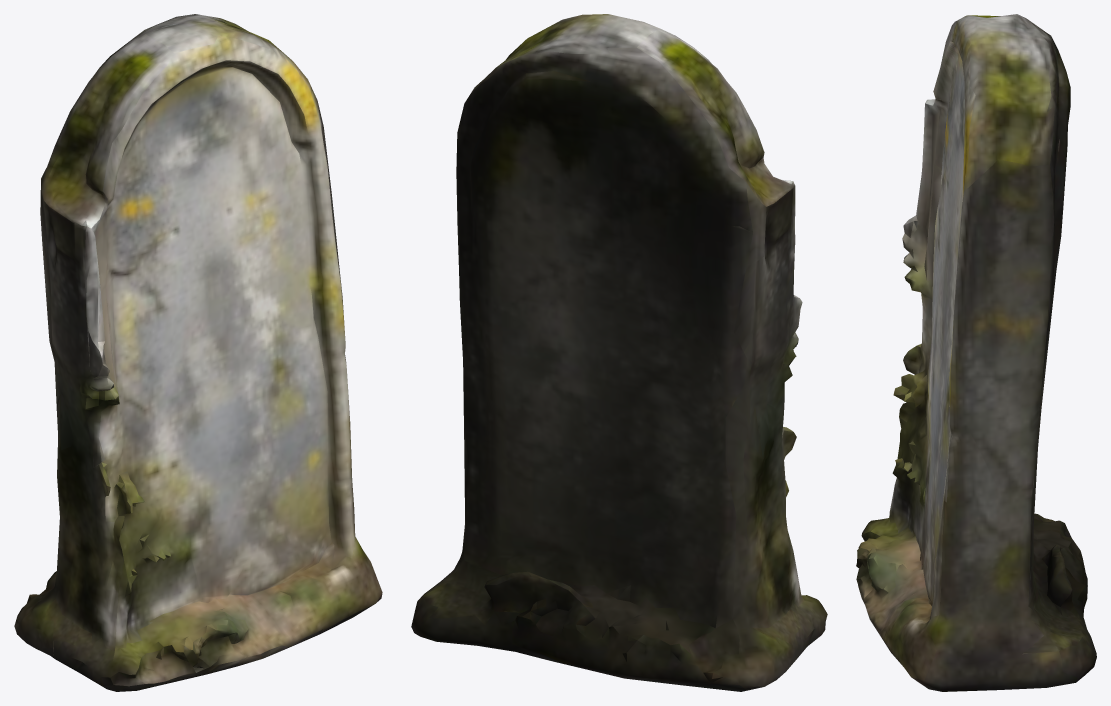
Rendered from prop-gravestone.glb.
The picture shows the model from 3 angles, left to right: view 1: azimuth 30°, elevation 25°; view 2: azimuth 150°, elevation 25°; view 3: azimuth 270°, elevation 25°; orthographic projection. The views are drawn at different scales.
Parts seen in each view (by area): view 1: prop-gravestone; view 2: prop-gravestone; view 3: prop-gravestone.
Part boxes in pixels (x1=…): prop-gravestone: x1=14, y1=14, x2=382, y2=691; prop-gravestone: x1=411, y1=14, x2=827, y2=691; prop-gravestone: x1=856, y1=14, x2=1096, y2=691.
Size of the model in its own units: 0.7438 by 1.3 by 0.4822.
Materials: 1 (1 with a texture image).
